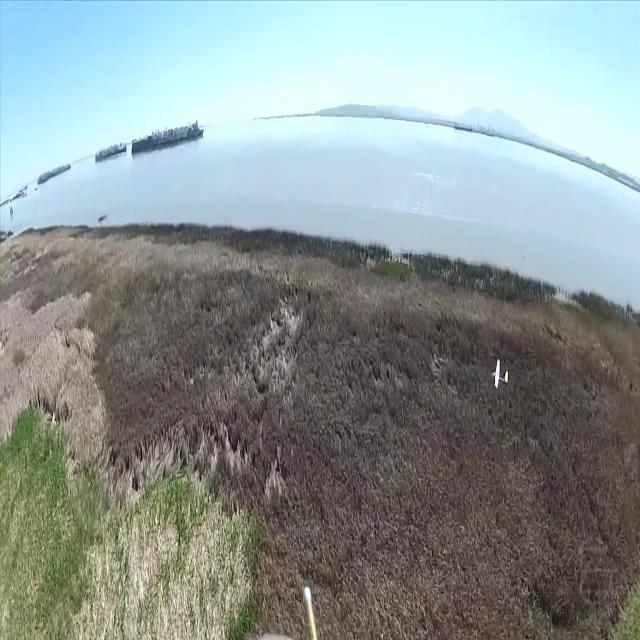iha: (487, 355, 512, 393)
